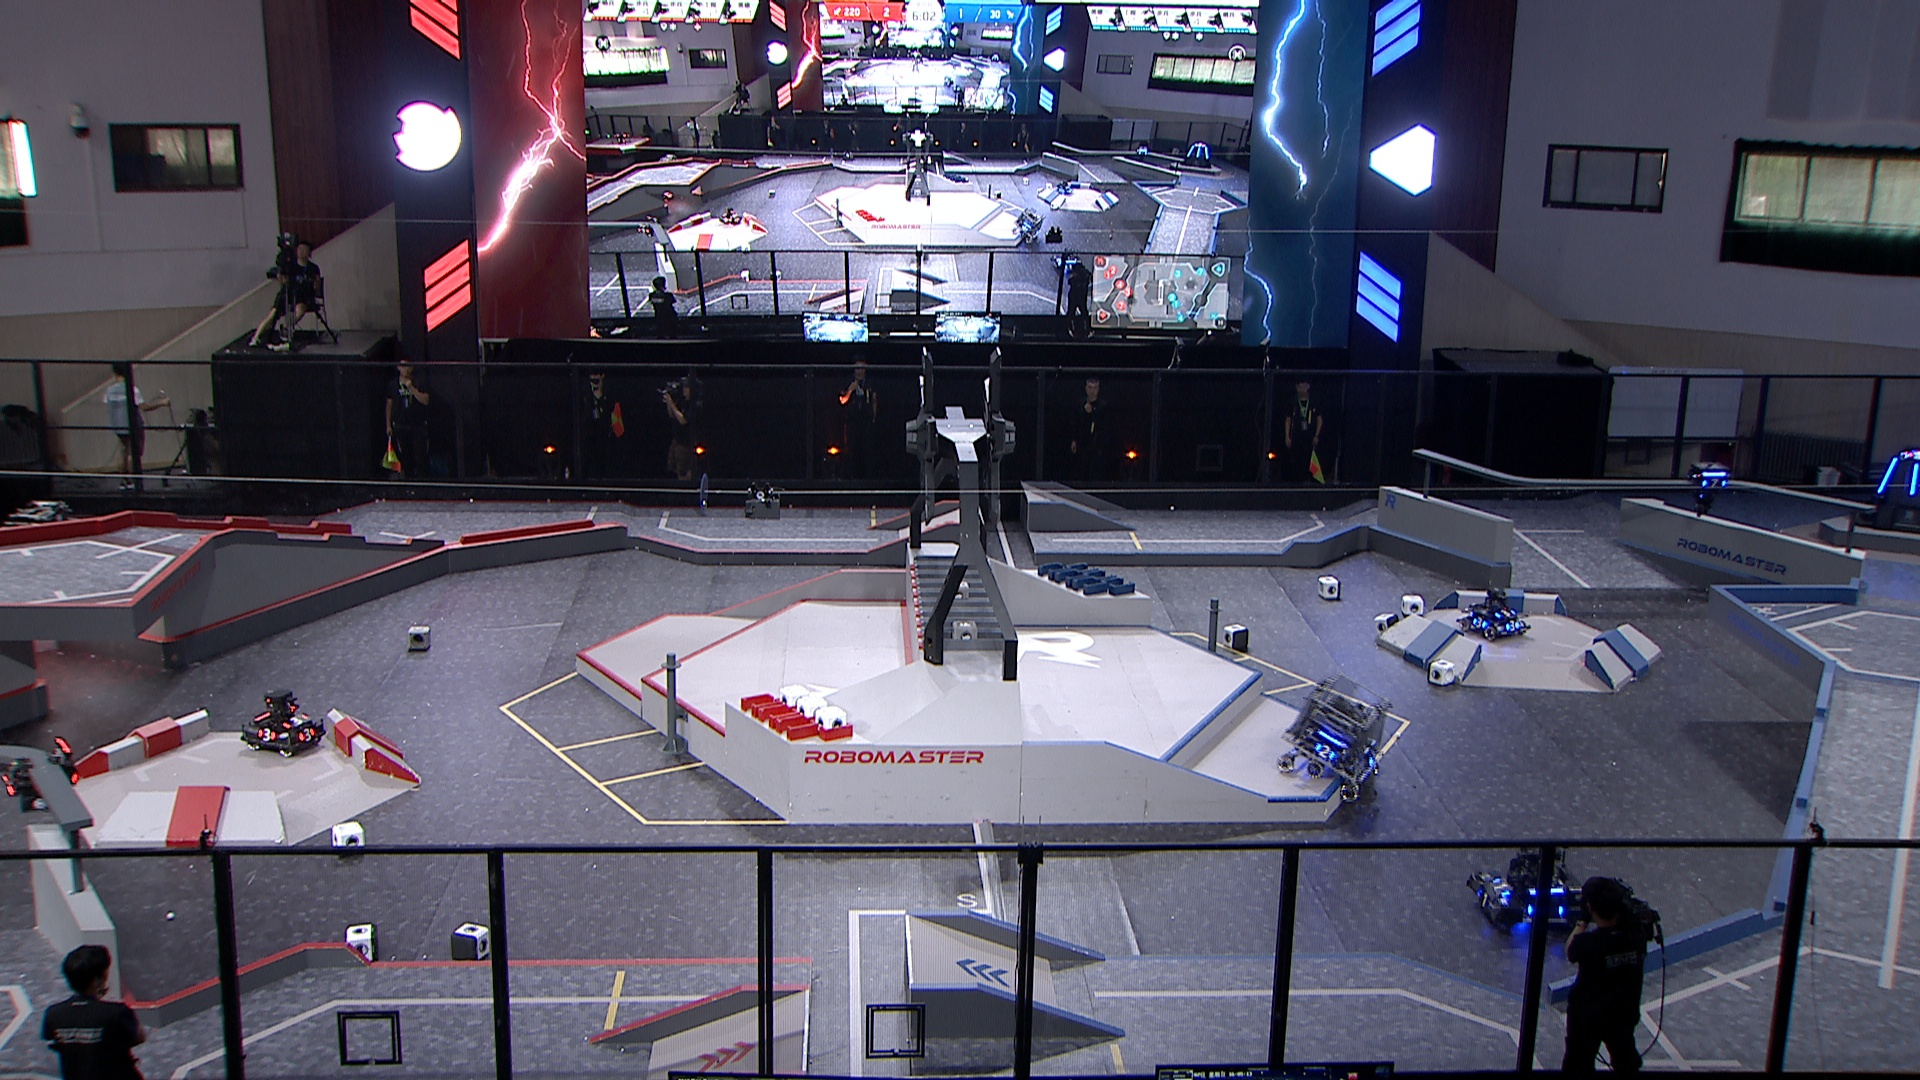armor: (1878, 458, 1899, 496), (1490, 877, 1514, 902), (281, 713, 310, 731), (1316, 741, 1337, 764), (1476, 889, 1495, 913), (3, 774, 18, 800), (1909, 462, 1920, 498), (257, 727, 278, 744), (297, 728, 318, 744), (1700, 477, 1727, 489), (1493, 607, 1515, 621), (1503, 618, 1522, 633), (1474, 616, 1490, 632), (1367, 752, 1379, 770)
base: (1851, 448, 1920, 537)
car: (1276, 676, 1394, 804), (1466, 841, 1590, 939), (237, 688, 328, 756), (1455, 585, 1532, 644)
ignore: (1015, 208, 1044, 244), (1182, 142, 1215, 167), (1054, 251, 1083, 276), (719, 206, 741, 225), (637, 215, 655, 239), (1058, 178, 1073, 196), (1135, 145, 1149, 164), (1904, 450, 1920, 462)
watcher: (0, 736, 83, 816), (1688, 462, 1731, 517)
